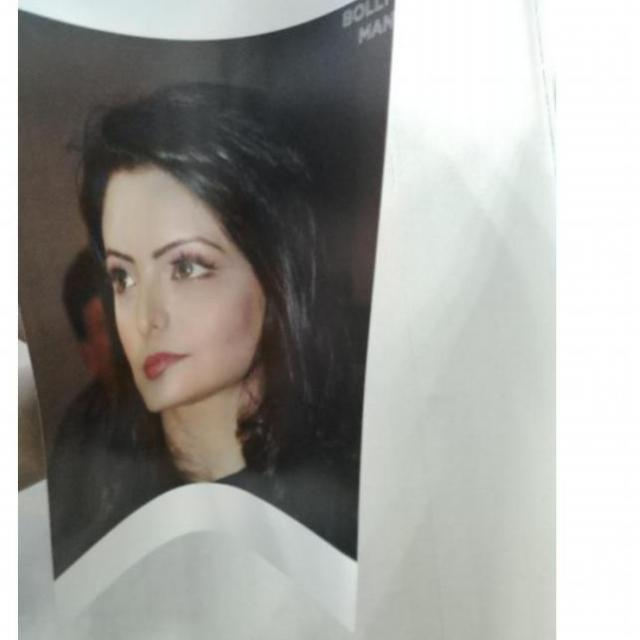photo: (21, 0, 403, 632)
